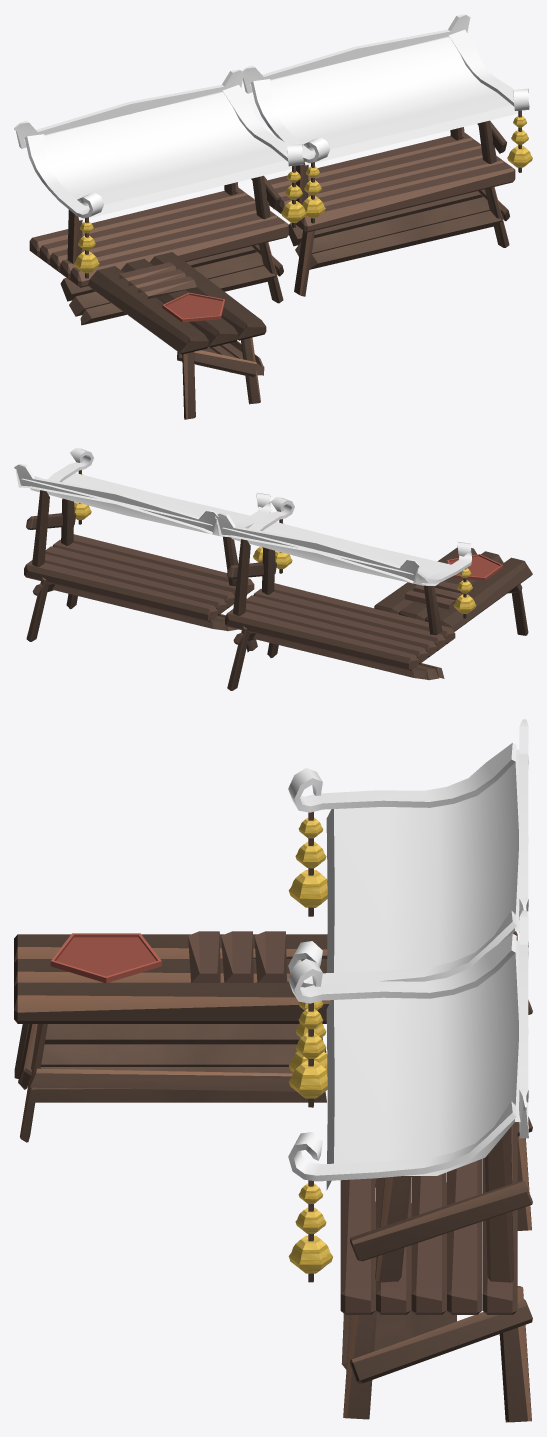
File: Shop_3lvl.fbx
The picture shows the model from 3 angles, top to bottom: view 1: azimuth 30°, elevation 25°; view 2: azimuth 150°, elevation 25°; view 3: azimuth 270°, elevation 25°; orthographic projection. The views are drawn at different scales.
Parts seen in each view (by area): view 1: Shop_3lvl; view 2: Shop_3lvl; view 3: Shop_3lvl.
Boxes of the visible parts, x1,y1,x2,y2 form: Shop_3lvl: (14,14,532,419); Shop_3lvl: (14,448,532,690); Shop_3lvl: (14,719,532,1422).
Bounding box in the file's own units: 6.41 × 2.66 × 3.65.
Materials: 1 (1 with a texture image).
